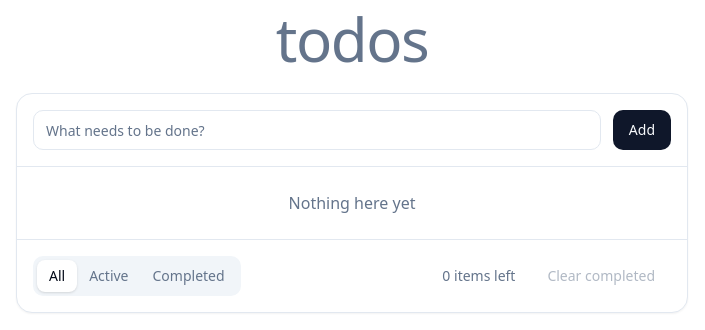
Test: Mindbox Todo App › adds a todo and updates remaining counter
expect the text with test id "left-count" reads "0 items left": met, box [442, 266, 515, 286]
Type "Тестовое задание" into the field with placeholder "What needs to be done?". click: [317, 130]
box: [33, 110, 601, 150]
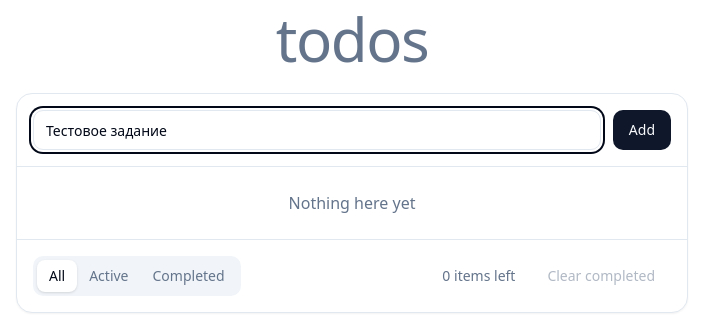
Press Enter
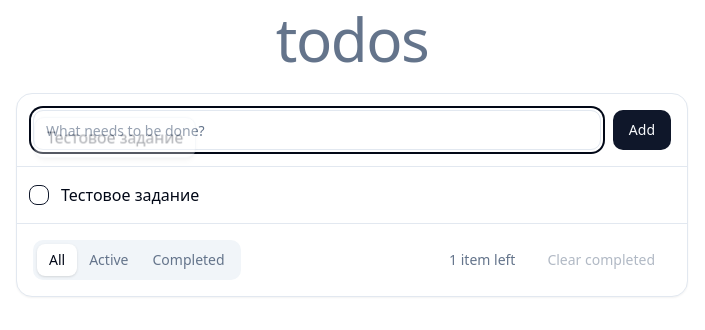
expect the list reads "Тестовое задание": met, box [61, 184, 199, 206]
expect the text with test id "left-count" reads "1 item left": met, box [449, 250, 515, 270]
